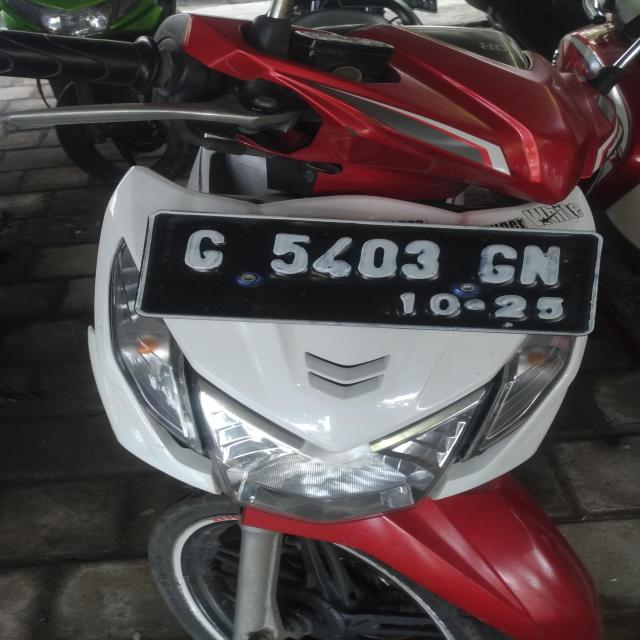License Plate: (136, 211, 602, 335)
